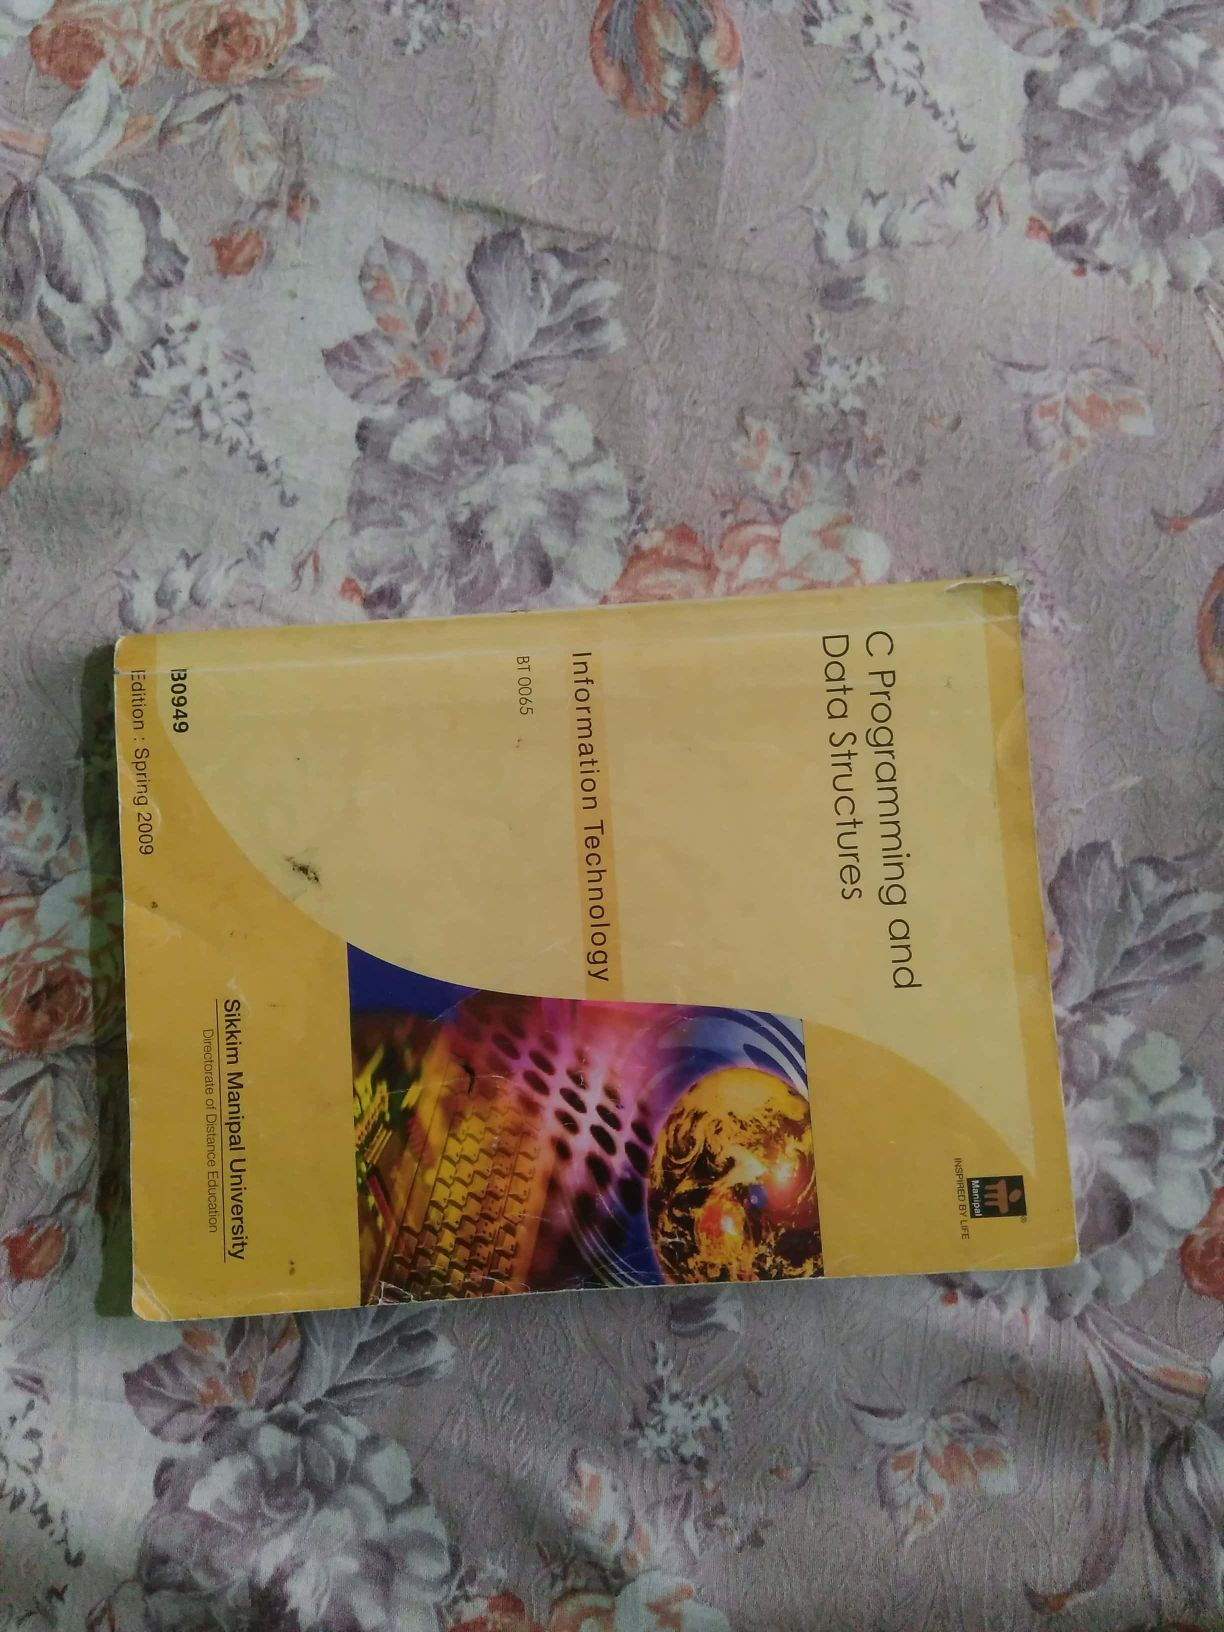clang: (64, 576, 1104, 1358)
